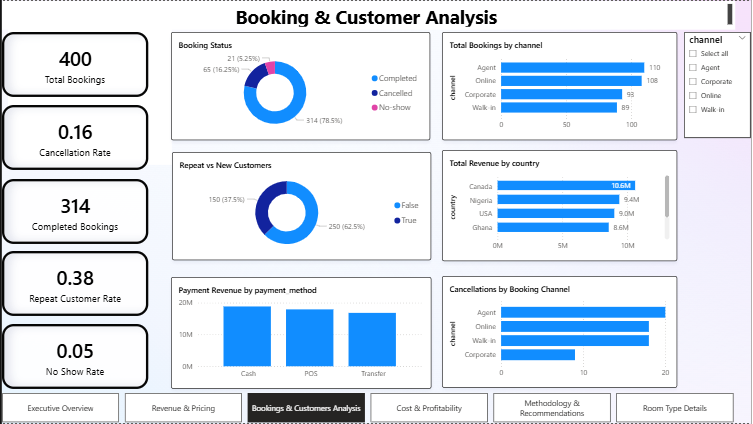

The page's visual inventory and layout, read from the dashboard file:
{"tool":"powerbi","page":{"name":"Bookings & Customers Analysis","canvas":[1280,720],"ordinal":2},"visuals":[{"type":"textbox","box":[10,0,280,280],"z":0},{"type":"textbox","box":[0,0,1252.7,48.6],"z":1000},{"type":"card","fields":{"Values":["Date.Total Bookings"]},"box":[0,52.7,250,110.8],"z":2000},{"type":"card","fields":{"Values":["Date.Completed Bookings"]},"box":[0,304.1,250,110.8],"z":3000},{"type":"card","fields":{"Values":["Date.Cancellation Rate"]},"box":[0,178.4,250,110.8],"z":4000},{"type":"card","fields":{"Values":["Date.No Show Rate"]},"box":[0,551.4,250,110.8],"z":5000},{"type":"card","fields":{"Values":["Date.Repeat Customer Rate"]},"box":[0,427,250,110.8],"z":6000},{"type":"donutChart","title":"Booking Status","fields":{"Category":["bookings.status"],"Y":["Date.Total Bookings"]},"box":[289.2,52.7,443.2,185.1],"z":7000},{"type":"clusteredBarChart","fields":{"Category":["bookings.channel"],"Y":["Date.Total Bookings"]},"box":[751.9,53,401.6,184.6],"z":8000},{"type":"clusteredBarChart","fields":{"Category":["customers.country"],"Y":["Date.Total Revenue"]},"box":[751.9,254.6,401.6,189.7],"z":9000},{"type":"donutChart","title":"Repeat vs New Customers","fields":{"Category":["customers.repeat_customer"],"Y":["CountNonNull(customers.customer_id)"]},"box":[290.5,258.1,443.2,185.1],"z":10000},{"type":"clusteredColumnChart","fields":{"Category":["payments.payment_method"],"Y":["Date.Payment Revenue"]},"box":[289.2,471.6,444.6,190.5],"z":11000},{"type":"clusteredBarChart","title":"Cancellations by Booking Channel","fields":{"Category":["bookings.channel"],"Y":["Date.Cancelled Bookings"]},"box":[751.9,470,401.6,191.4],"z":12000},{"type":"pageNavigator","box":[0,670.3,1252.7,50],"z":13000},{"type":"slicer","fields":{"Values":["bookings.channel"]},"box":[1165.5,53,114.5,181.1],"z":14000}]}

Visuals, with their boxes in screenshot pixels (x1, y1, x2, y2), scaled from the page's 1280x720 canvas onto the 753x424 screenshot:
textbox: select_region(6, 0, 171, 165)
textbox: select_region(0, 0, 737, 29)
card - Date.Total Bookings: select_region(0, 31, 147, 96)
card - Date.Completed Bookings: select_region(0, 179, 147, 244)
card - Date.Cancellation Rate: select_region(0, 105, 147, 170)
card - Date.No Show Rate: select_region(0, 325, 147, 390)
card - Date.Repeat Customer Rate: select_region(0, 251, 147, 317)
"Booking Status" donutChart: select_region(170, 31, 431, 140)
clusteredBarChart - bookings.channel x Date.Total Bookings: select_region(442, 31, 679, 140)
clusteredBarChart - customers.country x Date.Total Revenue: select_region(442, 150, 679, 262)
"Repeat vs New Customers" donutChart: select_region(171, 152, 432, 261)
clusteredColumnChart - payments.payment_method x Date.Payment Revenue: select_region(170, 278, 432, 390)
"Cancellations by Booking Channel" clusteredBarChart: select_region(442, 277, 679, 389)
pageNavigator: select_region(0, 395, 737, 423)
slicer - bookings.channel: select_region(686, 31, 752, 138)
